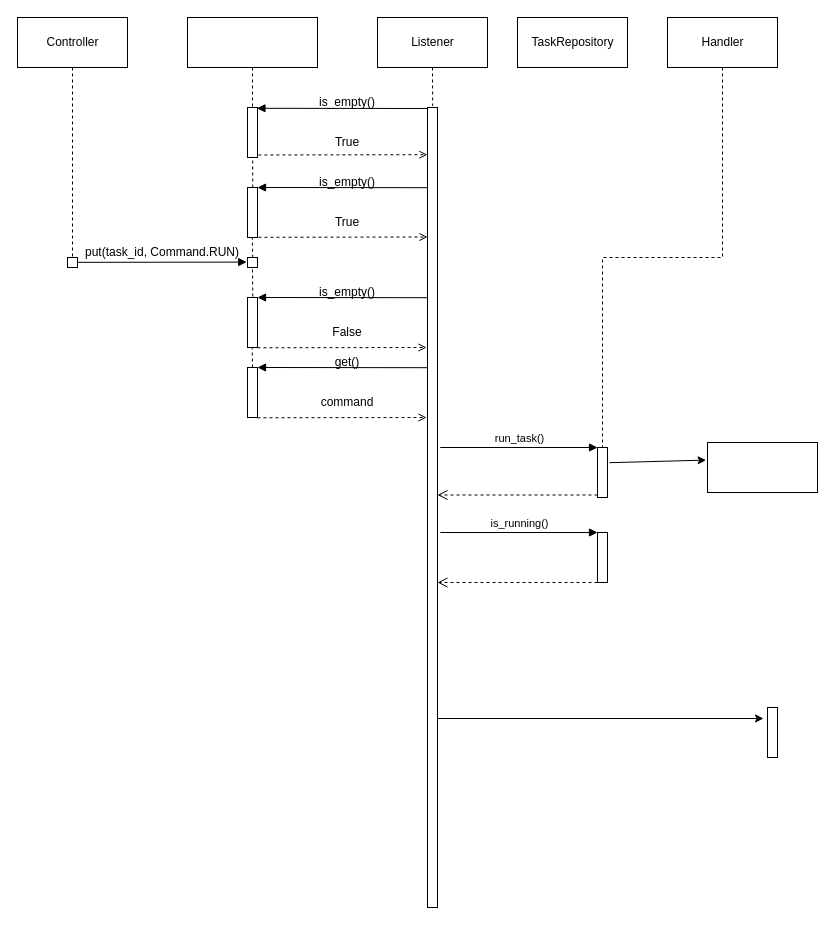
Some shapes in this 835 by 925 pixel diagram are drawn without their labels. Here are the shapes that lost their labels. From the top down, the centre of each, then its label:
At (252,42): "CommandQueue".
At (762,467): "Executor".
